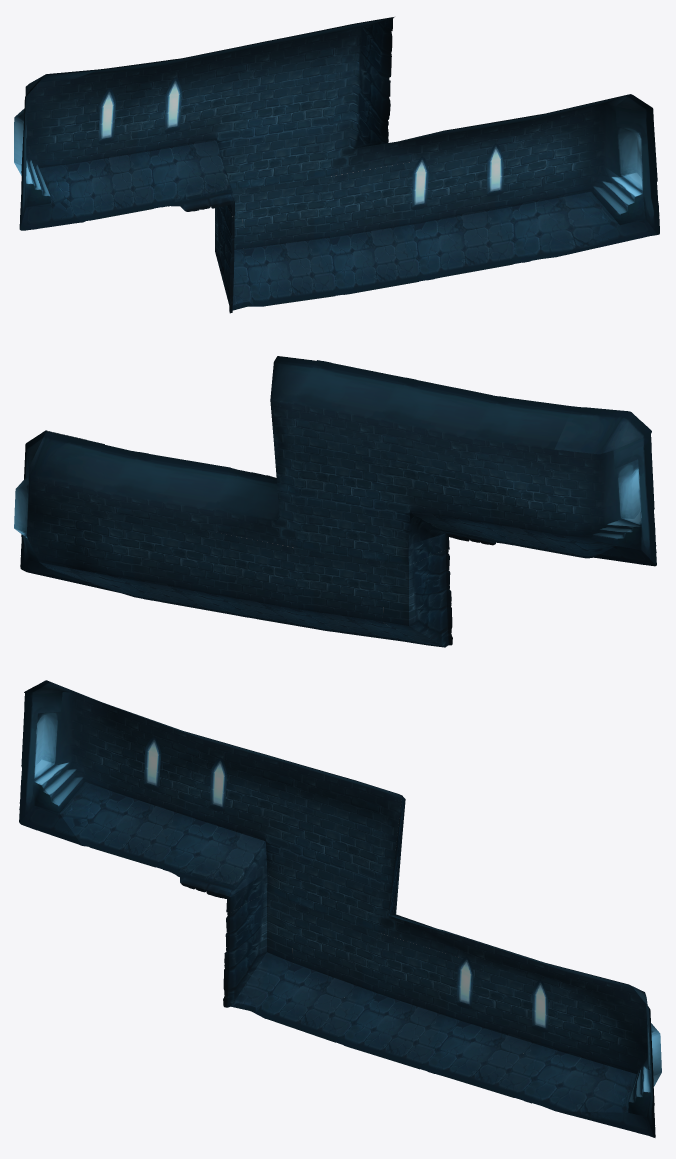
File: Dark Forest Crypt Interior B.FBX
The picture shows the model from 3 angles, top to bottom: view 1: azimuth 30°, elevation 25°; view 2: azimuth 150°, elevation 25°; view 3: azimuth 330°, elevation 25°; orthographic projection.
Visible parts, largest first — view 1: Crypt interior B; view 2: Crypt interior B; view 3: Crypt interior B.
Part boxes in pixels (box(x1,y1,x2,y2)): Crypt interior B: box(14, 17, 659, 313); Crypt interior B: box(14, 356, 656, 647); Crypt interior B: box(19, 680, 661, 1137).
Size of the model in its own units: 2945 by 236 by 1385.
